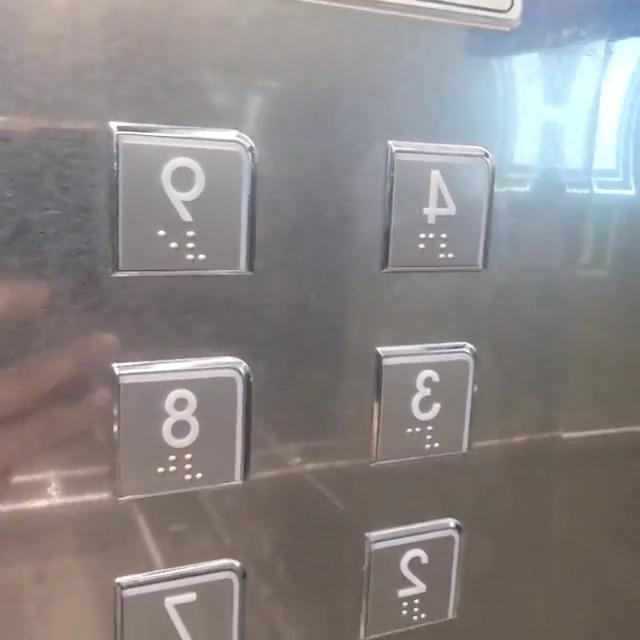button: (103, 125, 263, 272), (112, 358, 248, 502), (376, 145, 498, 277), (372, 336, 484, 465), (363, 518, 463, 636)
